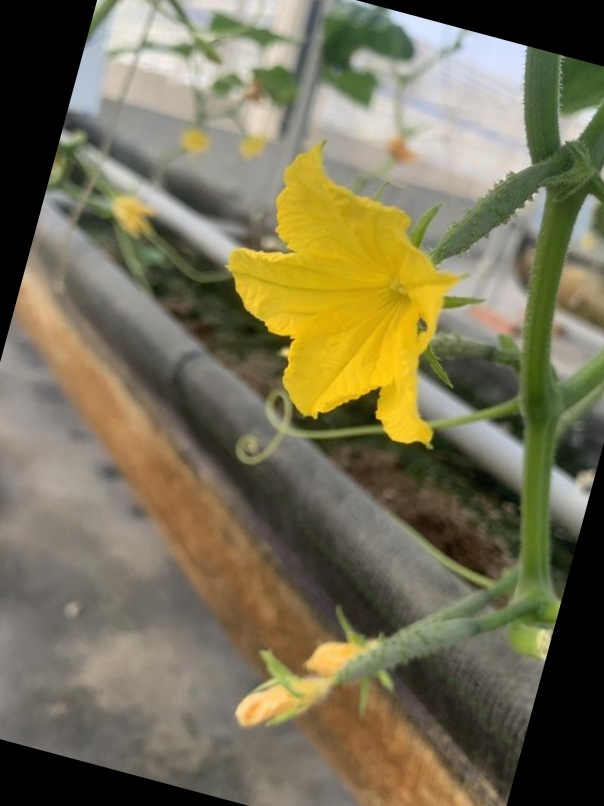flowering: (221, 134, 523, 455)
